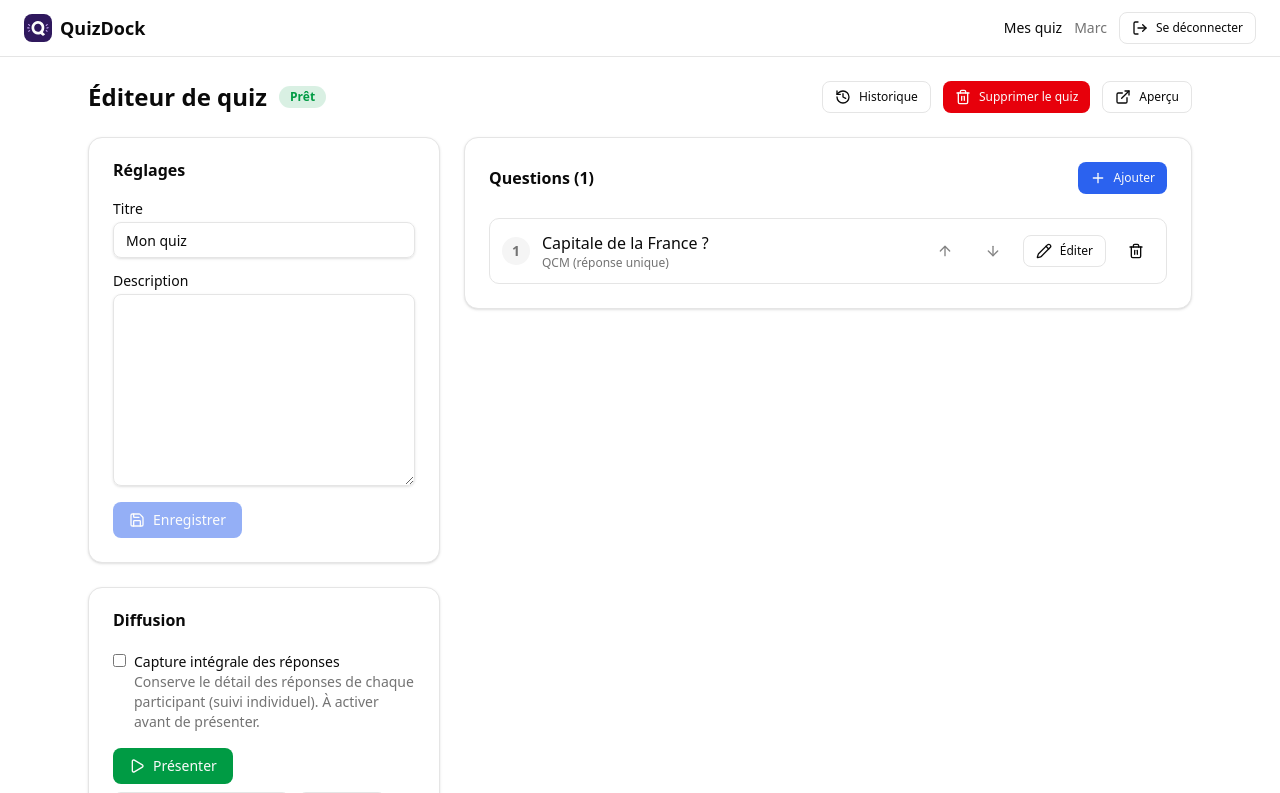
Test case: EditorPage › « Présenter » crée la partie et révèle les 3 accès (contrôle/projection/invitation)
Click the button "Présenter": (173, 766) [113,748,233,784]
(page scrolled)
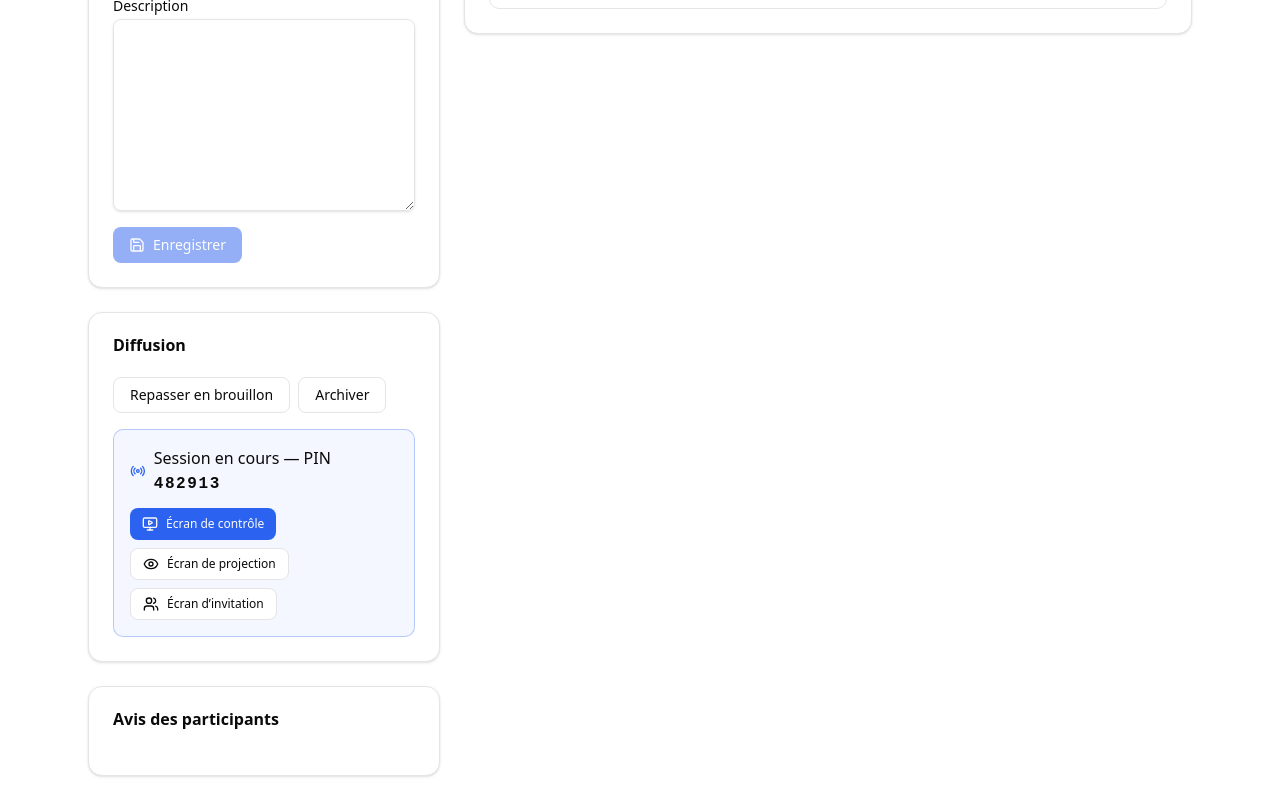
expect the text "Session en cours — PIN 482913" is shown: met, box [154,447,331,493]
expect the link "Écran de contrôle" is shown: met, box [130,508,276,540]
expect the button "Écran de projection" is shown: met, box [130,548,289,580]
